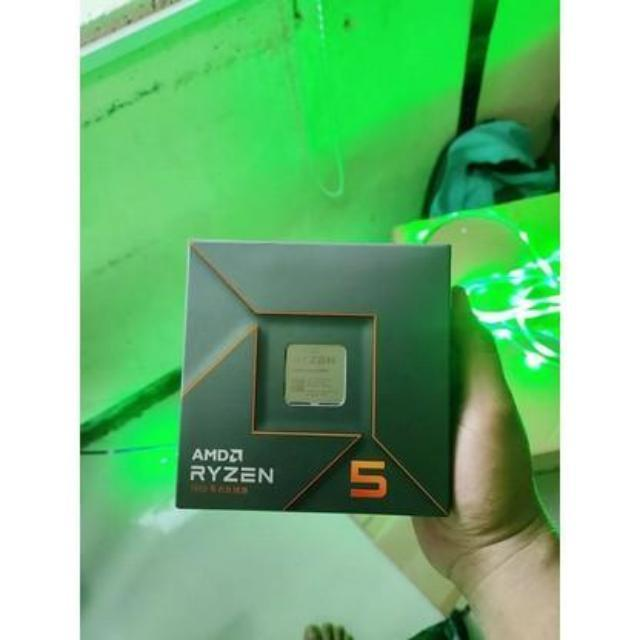CPU: (277, 336, 360, 412)
